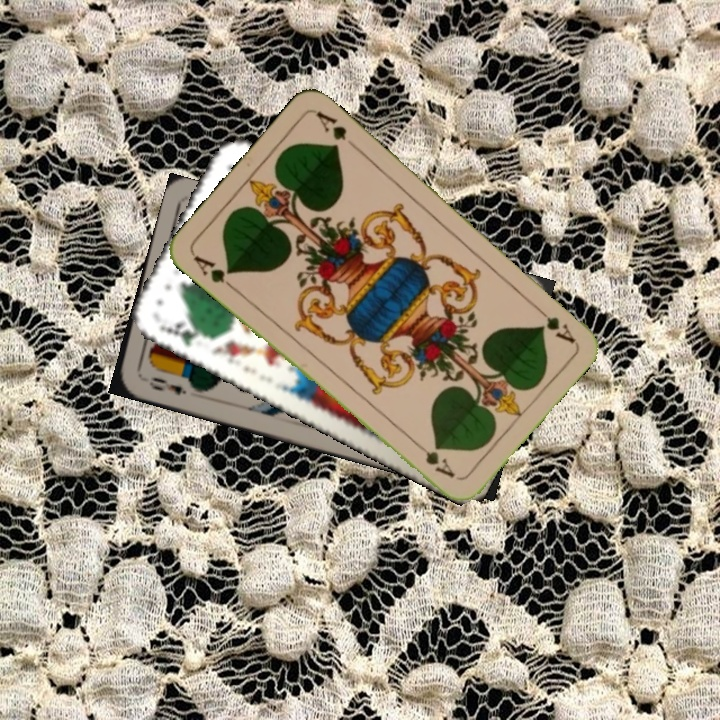EO: (144, 373, 189, 398)
GA: (530, 300, 578, 346), (189, 251, 239, 294)
GK: (156, 318, 211, 350)
